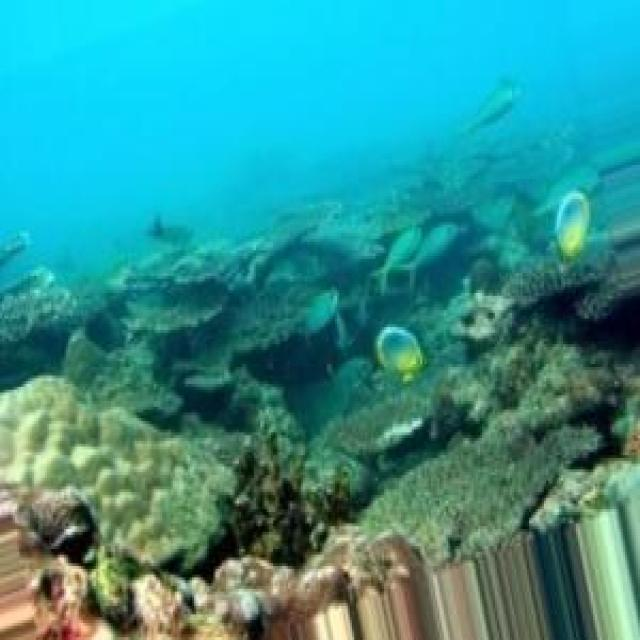bleached coral: (209, 447, 350, 572), (544, 353, 640, 475), (0, 267, 115, 358), (0, 378, 96, 486), (137, 572, 260, 640), (273, 566, 365, 640), (452, 293, 516, 361), (422, 549, 476, 577), (375, 418, 422, 449)
healthy coral: (469, 117, 640, 233), (226, 319, 369, 444), (130, 225, 305, 327), (68, 344, 183, 435), (373, 216, 493, 296)
